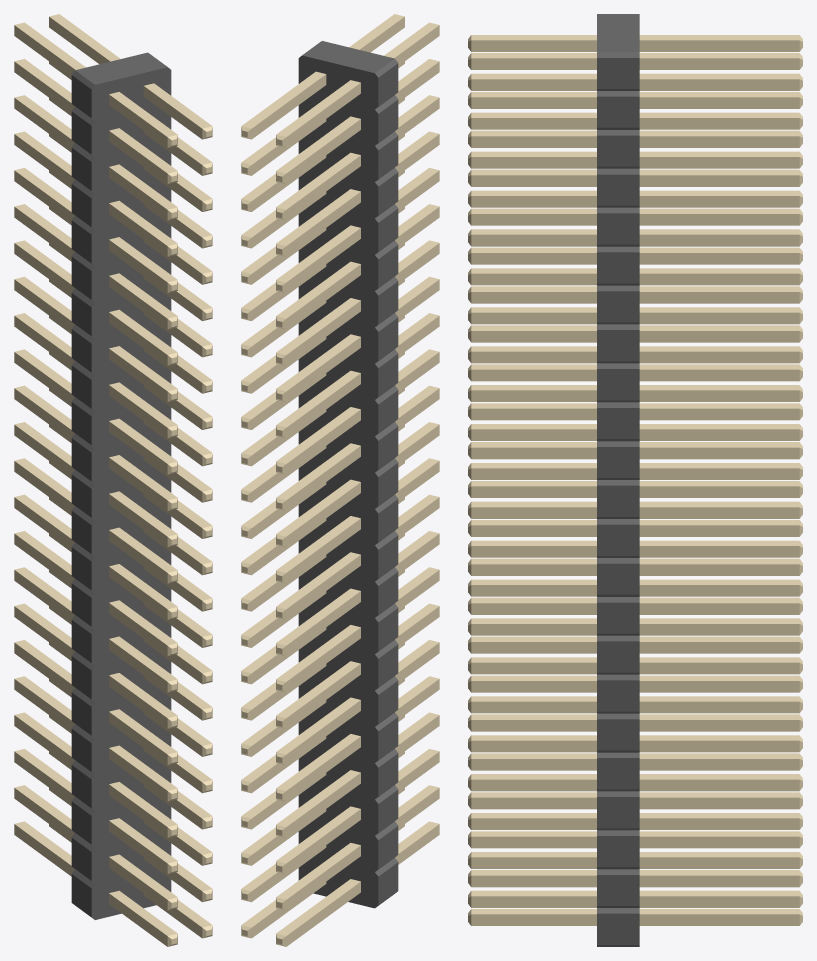
File: PinHeader_2x23_P1.00mm_Vertical.glb
3 renders of one model, left to right at view 1: azimuth 30°, elevation 25°; view 2: azimuth 150°, elevation 25°; view 3: azimuth 270°, elevation 25°, orthographic. The views are drawn at different scales.
Visible parts, largest first — view 1: Shape_IndexedFaceSet.003, Shape_IndexedFaceSet.001, Shape_IndexedFaceSet.325, Shape_IndexedFaceSet.150, Shape_IndexedFaceSet.430, Shape_IndexedFaceSet.246, Shape_IndexedFaceSet.334, Shape_IndexedFaceSet.505, Shape_IndexedFaceSet.286, Shape_IndexedFaceSet.345, Shape_IndexedFaceSet.161, Shape_IndexedFaceSet.210 (+131 smaller); view 2: Shape_IndexedFaceSet.004, Shape_IndexedFaceSet.001, Shape_IndexedFaceSet.509, Shape_IndexedFaceSet.334, Shape_IndexedFaceSet.430, Shape_IndexedFaceSet.470, Shape_IndexedFaceSet.486, Shape_IndexedFaceSet.413, Shape_IndexedFaceSet.417, Shape_IndexedFaceSet.475, Shape_IndexedFaceSet.345, Shape_IndexedFaceSet.359 (+109 smaller); view 3: Shape_IndexedFaceSet.336, Shape_IndexedFaceSet.343, Shape_IndexedFaceSet.364, Shape_IndexedFaceSet.367, Shape_IndexedFaceSet.372, Shape_IndexedFaceSet.377, Shape_IndexedFaceSet.381, Shape_IndexedFaceSet.396, Shape_IndexedFaceSet.401, Shape_IndexedFaceSet.404, Shape_IndexedFaceSet.411, Shape_IndexedFaceSet.415 (+196 smaller).
Part boxes in pixels (x1,y1,x2,y2): Shape_IndexedFaceSet.003: (91, 67, 171, 919); Shape_IndexedFaceSet.001: (75, 52, 167, 84); Shape_IndexedFaceSet.325: (143, 86, 202, 139); Shape_IndexedFaceSet.150: (109, 276, 167, 329); Shape_IndexedFaceSet.430: (14, 570, 74, 622); Shape_IndexedFaceSet.246: (109, 639, 167, 692); Shape_IndexedFaceSet.334: (14, 207, 74, 258); Shape_IndexedFaceSet.505: (14, 25, 75, 77); Shape_IndexedFaceSet.286: (109, 857, 167, 910); Shape_IndexedFaceSet.345: (14, 243, 74, 295); Shape_IndexedFaceSet.161: (109, 312, 167, 365); Shape_IndexedFaceSet.210: (109, 784, 167, 837); Shape_IndexedFaceSet.004: (298, 55, 378, 908); Shape_IndexedFaceSet.001: (302, 41, 394, 72); Shape_IndexedFaceSet.509: (251, 74, 326, 139); Shape_IndexedFaceSet.334: (286, 264, 360, 329); Shape_IndexedFaceSet.430: (286, 627, 360, 692); Shape_IndexedFaceSet.470: (286, 845, 360, 910); Shape_IndexedFaceSet.486: (286, 155, 360, 220); Shape_IndexedFaceSet.413: (286, 736, 360, 801); Shape_IndexedFaceSet.417: (286, 700, 360, 765); Shape_IndexedFaceSet.475: (286, 882, 360, 946); Shape_IndexedFaceSet.345: (286, 301, 360, 365); Shape_IndexedFaceSet.359: (286, 409, 360, 474); Shape_IndexedFaceSet.336: (639, 234, 799, 246); Shape_IndexedFaceSet.343: (639, 273, 799, 285); Shape_IndexedFaceSet.364: (639, 312, 799, 324); Shape_IndexedFaceSet.367: (639, 351, 799, 363); Shape_IndexedFaceSet.372: (639, 369, 799, 381); Shape_IndexedFaceSet.377: (639, 408, 799, 420); Shape_IndexedFaceSet.381: (639, 447, 799, 459); Shape_IndexedFaceSet.396: (639, 779, 799, 791); Shape_IndexedFaceSet.401: (639, 836, 799, 848); Shape_IndexedFaceSet.404: (639, 797, 799, 809); Shape_IndexedFaceSet.411: (639, 740, 799, 752); Shape_IndexedFaceSet.415: (639, 701, 799, 713).
Size of the model in its own units: 0.906 by 9.05 by 3.07.
